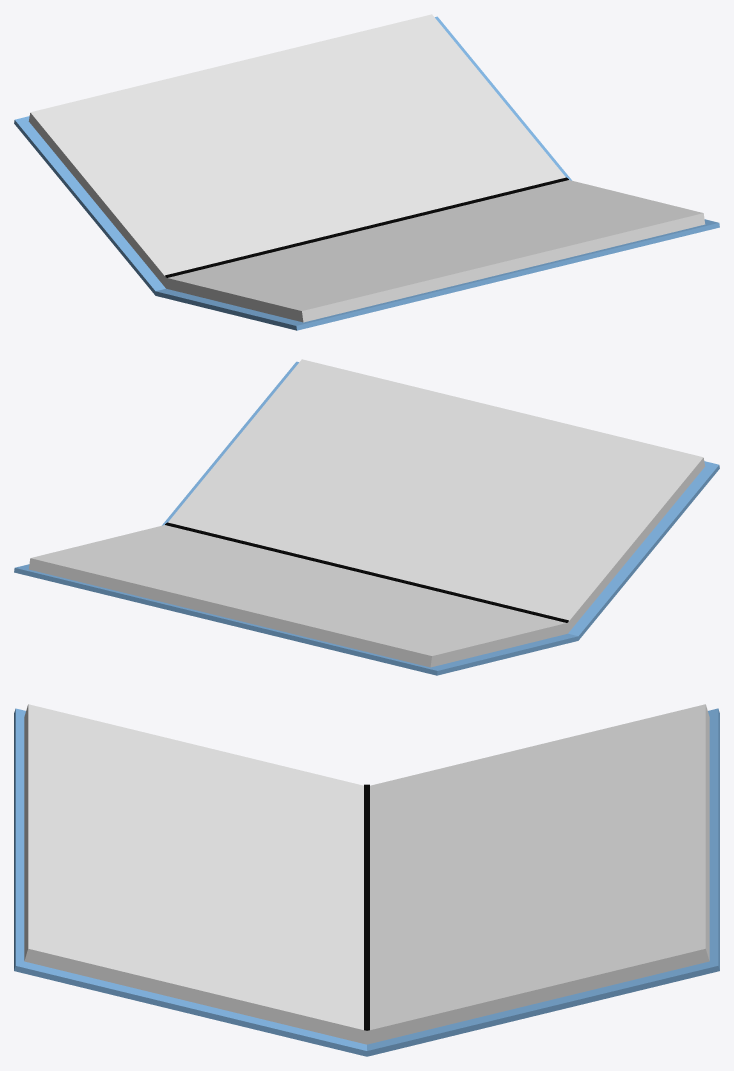
File: comic.glb
The picture shows the model from 3 angles, top to bottom: view 1: azimuth 30°, elevation 25°; view 2: azimuth 150°, elevation 25°; view 3: azimuth 270°, elevation 25°; orthographic projection. The views are drawn at different scales.
Visible parts, largest first — view 1: Object_5, Hoja_5, Object_4, Object_7; view 2: Hoja_5, Object_5, Object_4, Object_7; view 3: Object_5, Hoja_5, Object_4, Object_7.
Part boxes in pixels (left/top/right/bottom): Object_5: left=28, top=14, right=705, bottom=322; Hoja_5: left=171, top=180, right=699, bottom=310; Object_4: left=14, top=16, right=719, bottom=330; Object_7: left=165, top=177, right=568, bottom=277; Hoja_5: left=170, top=361, right=699, bottom=619; Object_5: left=28, top=359, right=705, bottom=667; Object_4: left=14, top=361, right=719, bottom=675; Object_7: left=165, top=522, right=568, bottom=622; Object_5: left=24, top=704, right=709, bottom=1044; Hoja_5: left=31, top=706, right=361, bottom=1028; Object_4: left=14, top=708, right=719, bottom=1056; Object_7: left=364, top=784, right=369, bottom=1030.
Bounding box in the file's own units: 2 × 0.3685 × 2.32.
